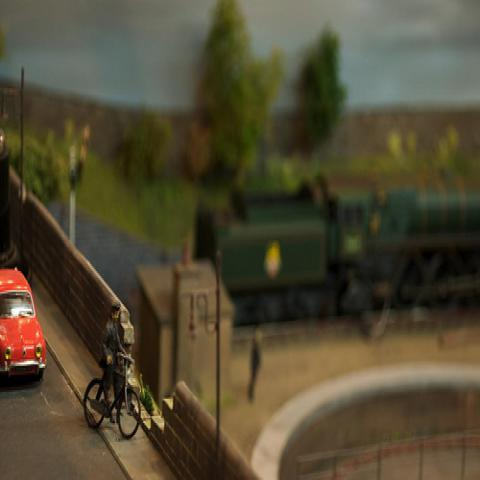car: (1, 268, 47, 394)
